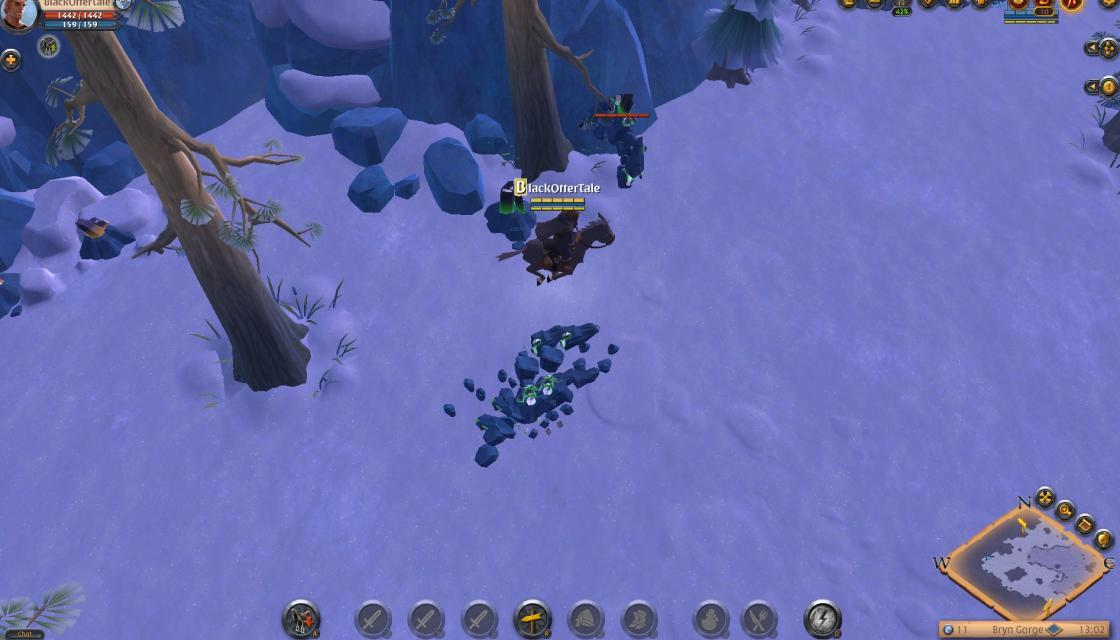copperore: (69, 212, 134, 266)
tinore: (483, 176, 541, 242)
